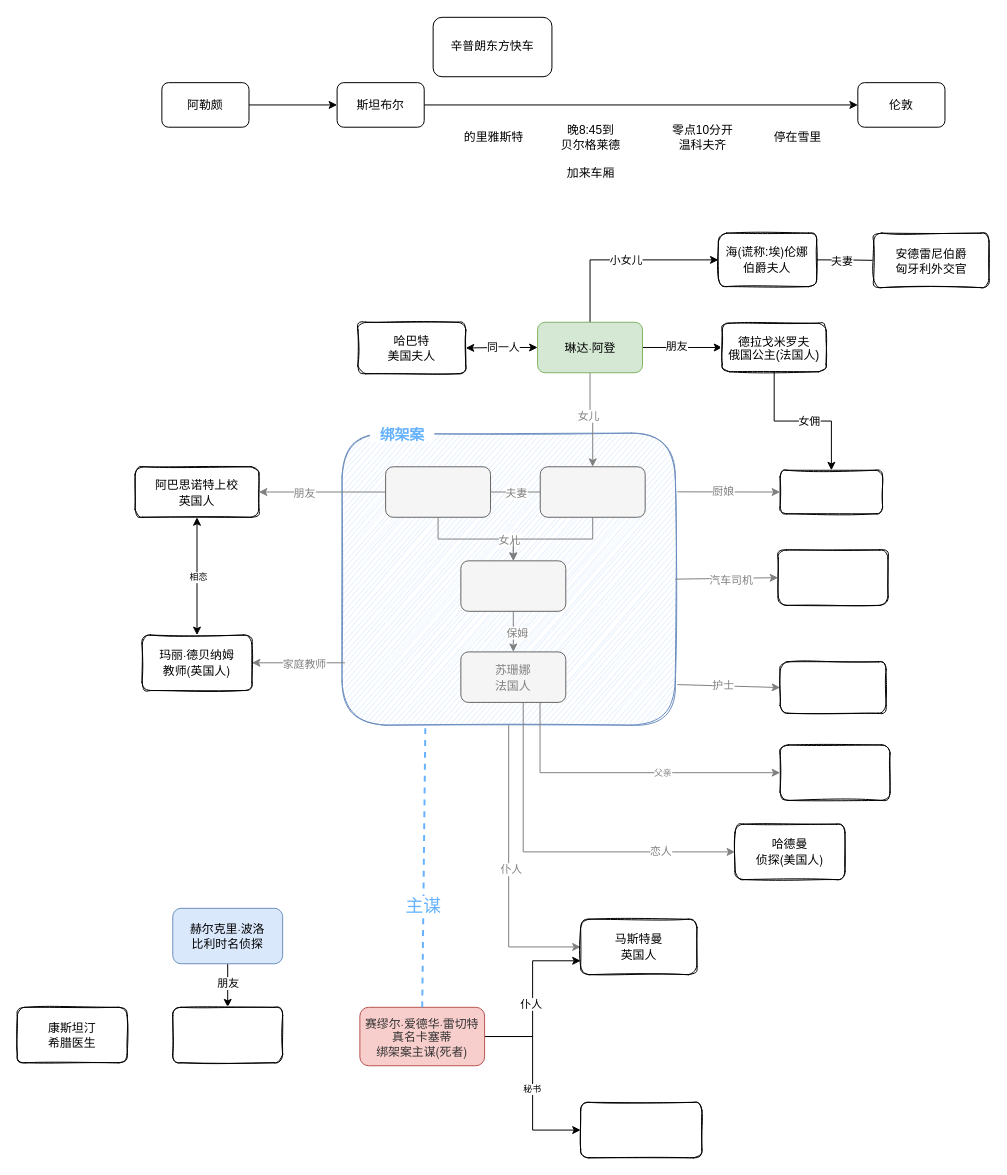
The diagram is 1007 pixels wide and 1175 high, and some of its shapes have lost their labels. The shapes that lost their labels are listed below. From the top down, each one's centre as x and y in pixels, then its label:
At point 438,491: "约翰·阿姆斯特朗".
At point 592,491: "索妮亚".
At point 831,491: "希尔德嘉德·施密特 德国女仆".
At point 513,585: "黛西 被绑架".
At point 832,577: "福斯卡雷利 意大利人(美国国籍)".
At point 832,687: "格丽塔·奥尔松 瑞典护士(山羊脸)".
At point 834,772: "皮埃尔·米歇尔 加来车厢列车员".
At point 227,1034: "布克先生 国际客车公司董事".
At point 641,1129: "麦奎因 美国人(秘书)".
